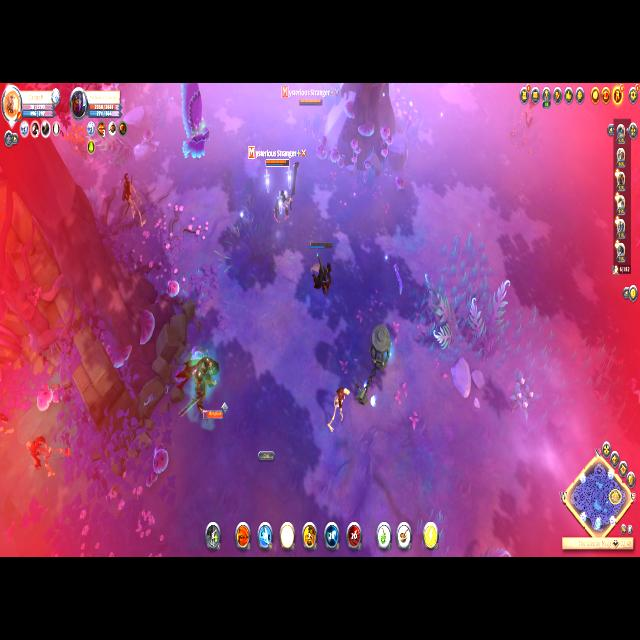ore: (180, 346, 228, 433), (176, 84, 213, 168), (22, 436, 75, 486), (508, 86, 544, 150), (118, 171, 150, 235), (326, 383, 351, 439), (0, 405, 18, 448)
red: (246, 143, 308, 233), (306, 238, 338, 302), (274, 83, 345, 109)
